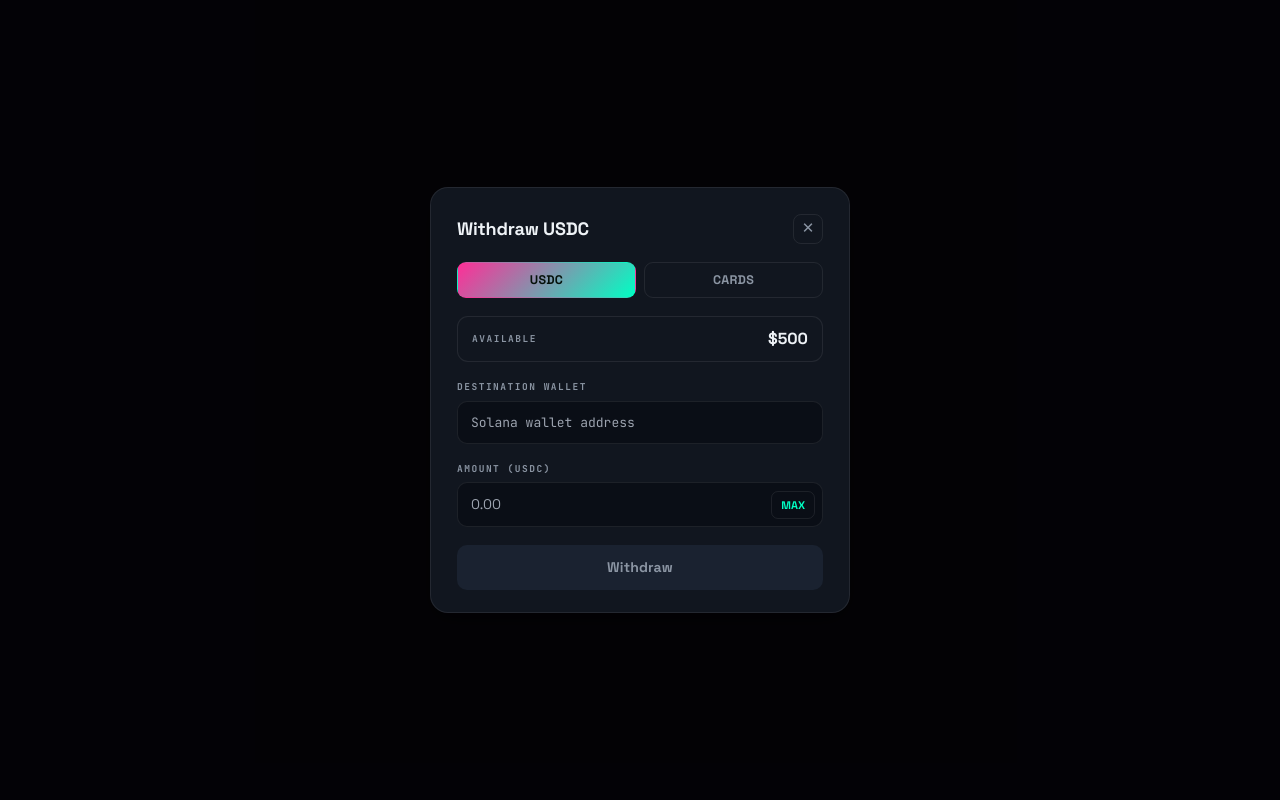
Test: WithdrawModal · selector USDC / CARDS › el botón MAX en CARDS usa el saldo de CARDS, no el de USDC
The image size is (1280, 800).
Click the button with aria-label "select cards".
click(734, 280)  # box [644,262,823,298]
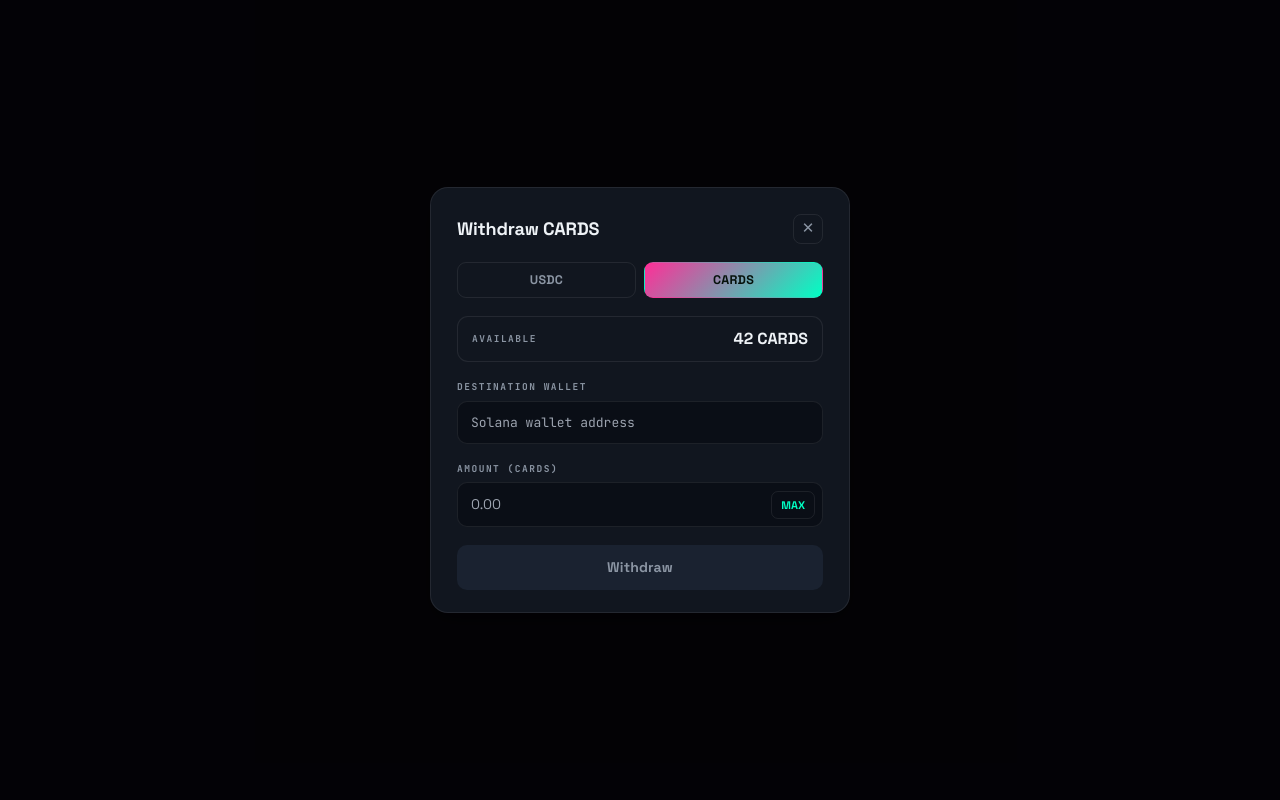
Click the button "MAX".
click(793, 505)  # box [771,491,815,519]
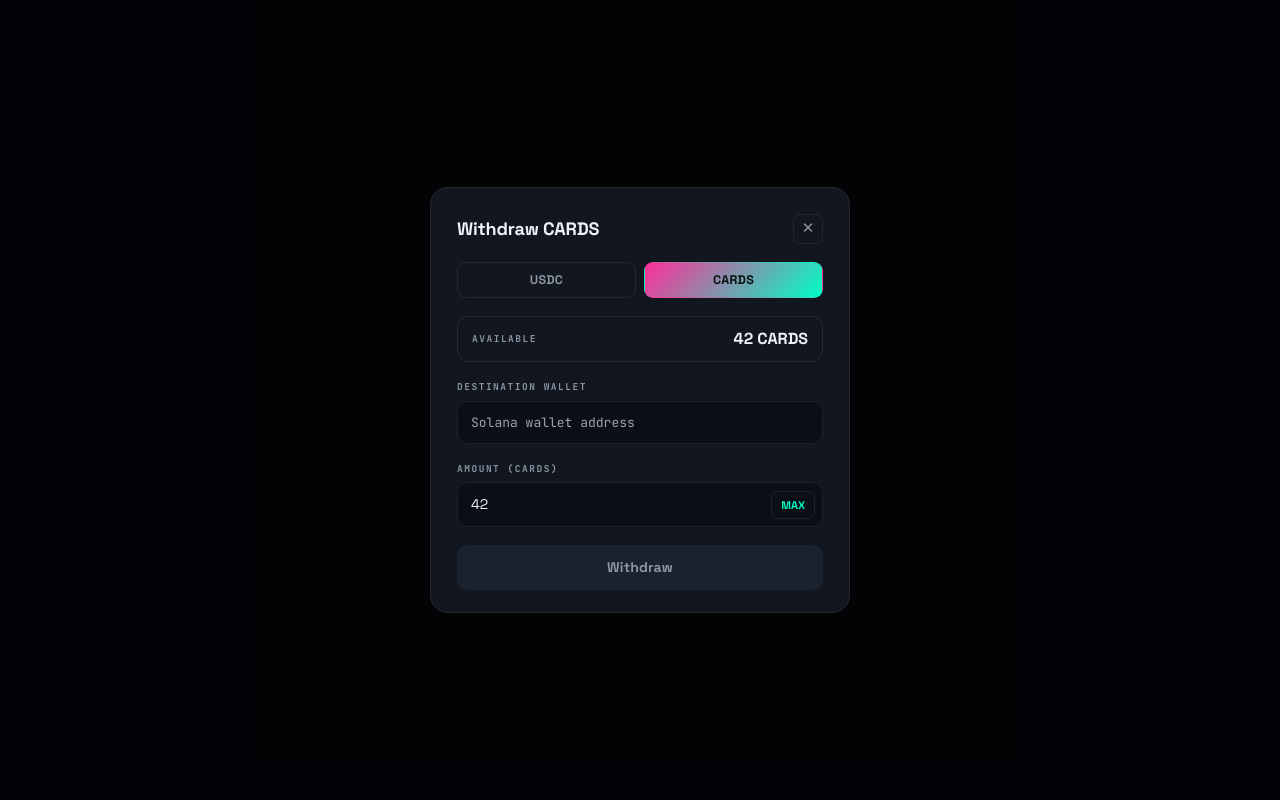
Expected: the field with placeholder "0.00" holds "42", [457,482,823,527]
